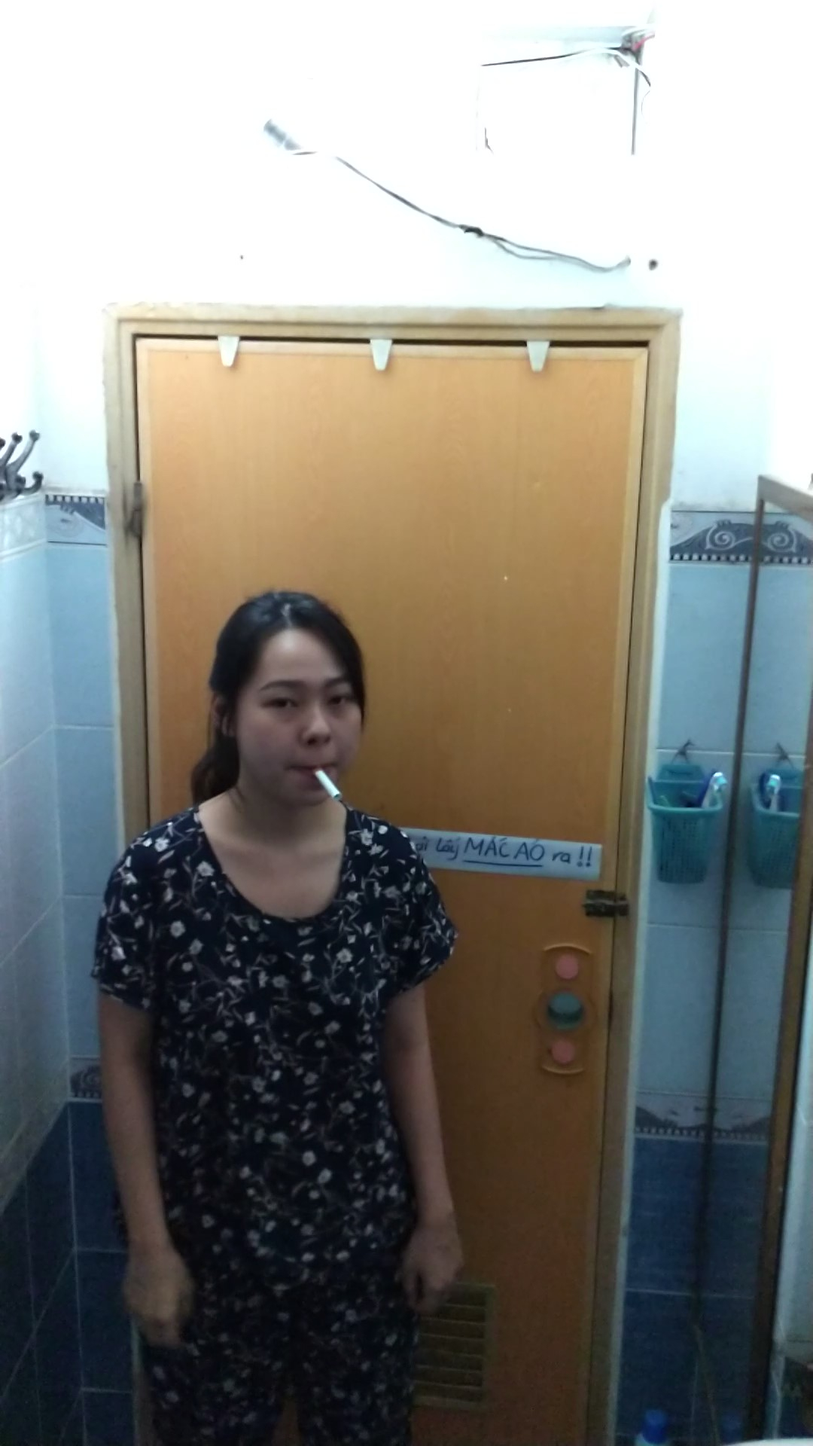cigarette: (314, 768, 346, 807)
person: (84, 572, 483, 1446)
